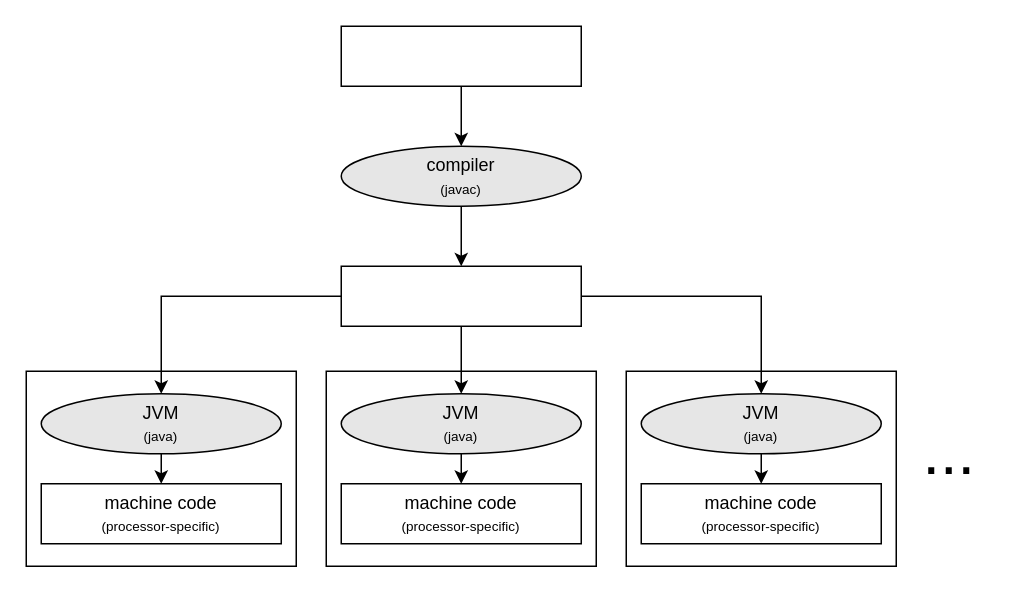
Some shapes in this 1013 by 593 pixel diagram are drawn without their labels. The box of each missing label's shape, as (x1, y1, x2, y2) in pixels:
byte code (*.class): (340, 265, 581, 326)
source code (*.java): (340, 25, 581, 86)
